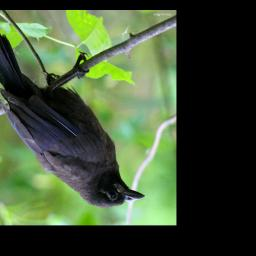Crow: (0, 26, 145, 209)
